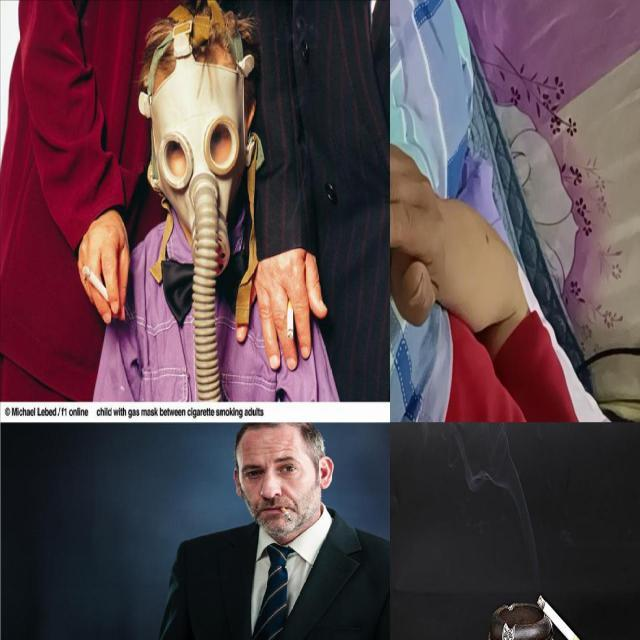smoking: (536, 590, 598, 639), (82, 265, 118, 307), (277, 504, 293, 522), (287, 300, 293, 342)
